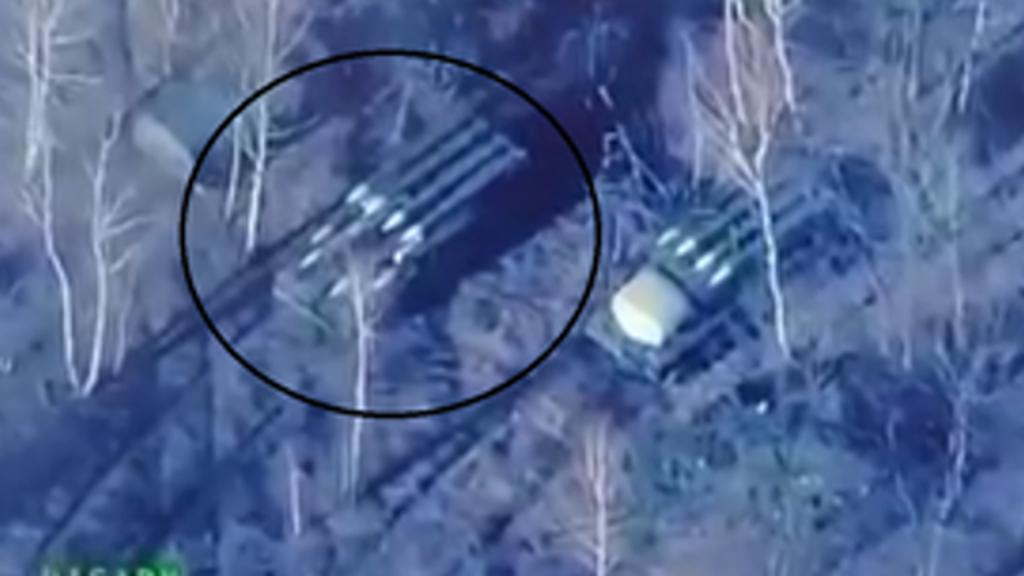MLRS: (576, 146, 868, 382), (268, 96, 546, 334)
